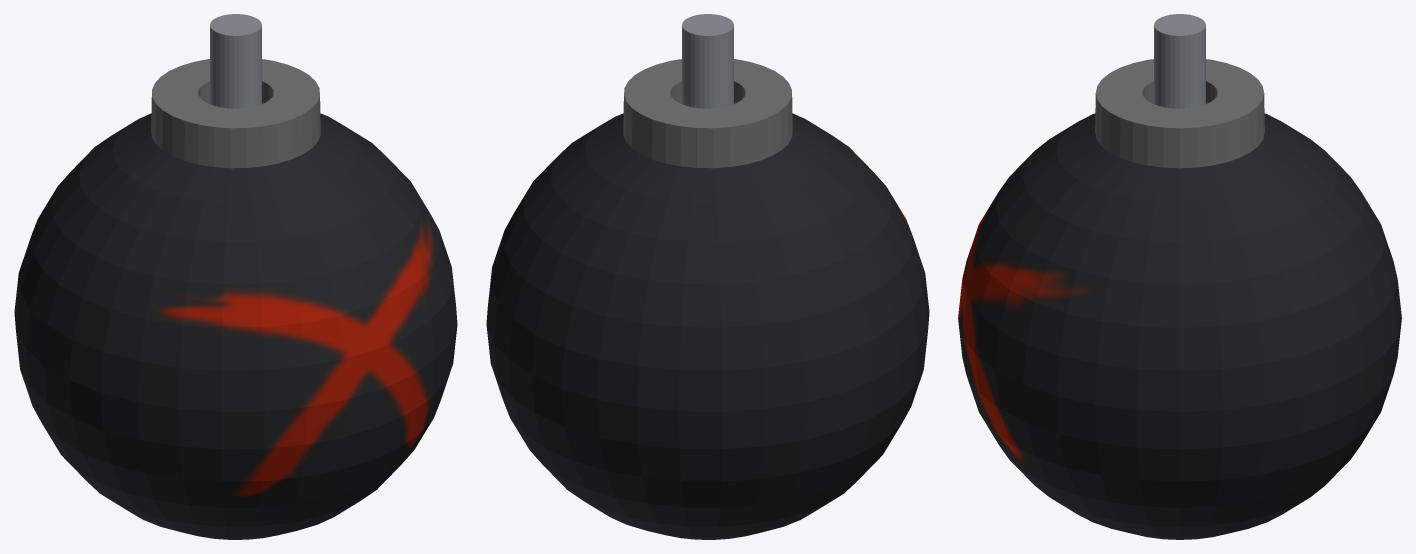
Rendered from bomb.fbx.
3 views of the same model, side by side, from view 1: azimuth 30°, elevation 25°; view 2: azimuth 150°, elevation 25°; view 3: azimuth 270°, elevation 25° (orthographic).
Parts seen in each view (by area): view 1: Sphere; view 2: Sphere; view 3: Sphere.
Part boxes in pixels (left/top/right/bottom): Sphere: left=14, top=14, right=457, bottom=539; Sphere: left=486, top=14, right=929, bottom=539; Sphere: left=958, top=14, right=1401, bottom=539.
Bounding box in the file's own units: 200 × 244 × 200.
